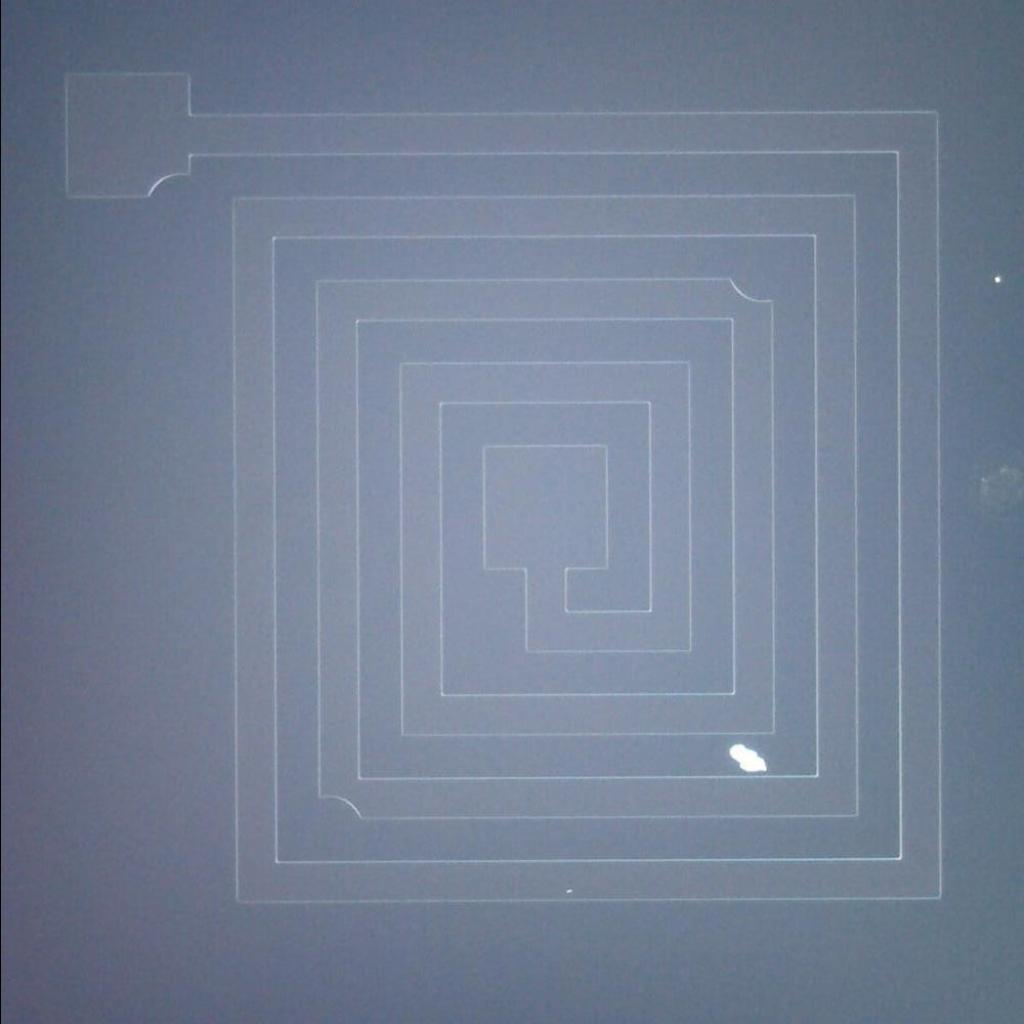curve circuit: (715, 267, 787, 311), (143, 164, 201, 212), (309, 786, 367, 834)
dot: (980, 262, 1016, 298), (553, 873, 583, 904)
spot: (716, 734, 771, 784)
